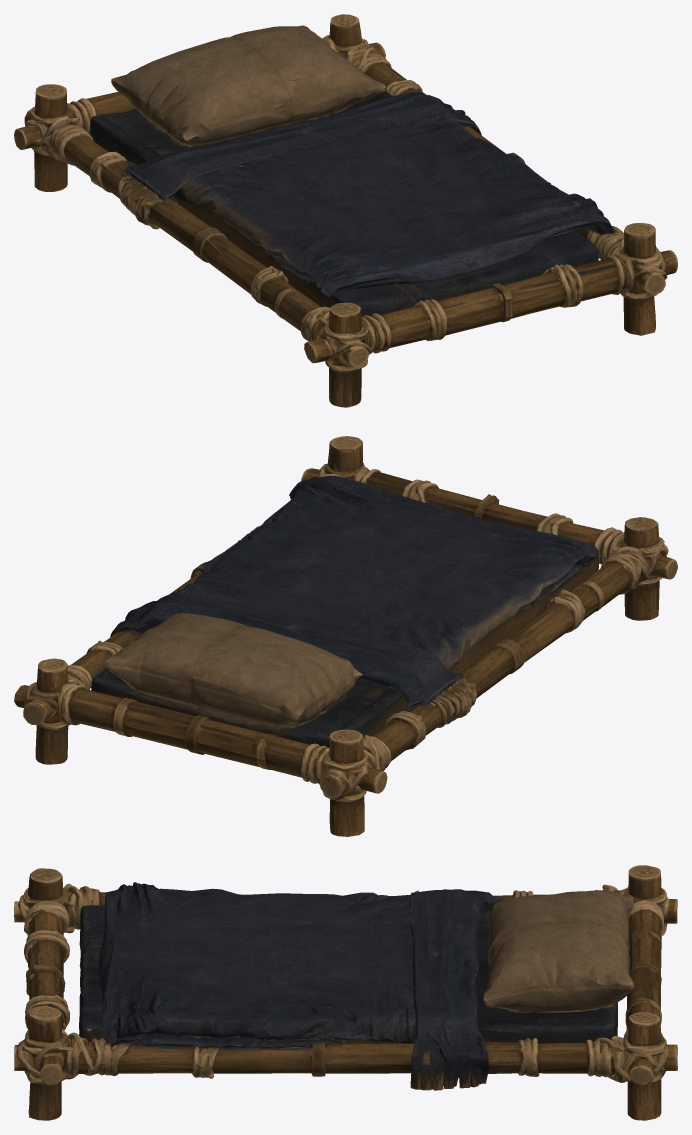
File: camp_bed.glb
The picture shows the model from 3 angles, top to bottom: view 1: azimuth 30°, elevation 25°; view 2: azimuth 150°, elevation 25°; view 3: azimuth 270°, elevation 25°; orthographic projection.
Size of the model in its own units: 1.23 by 0.4088 by 1.9.
1 material, 1 textured.
